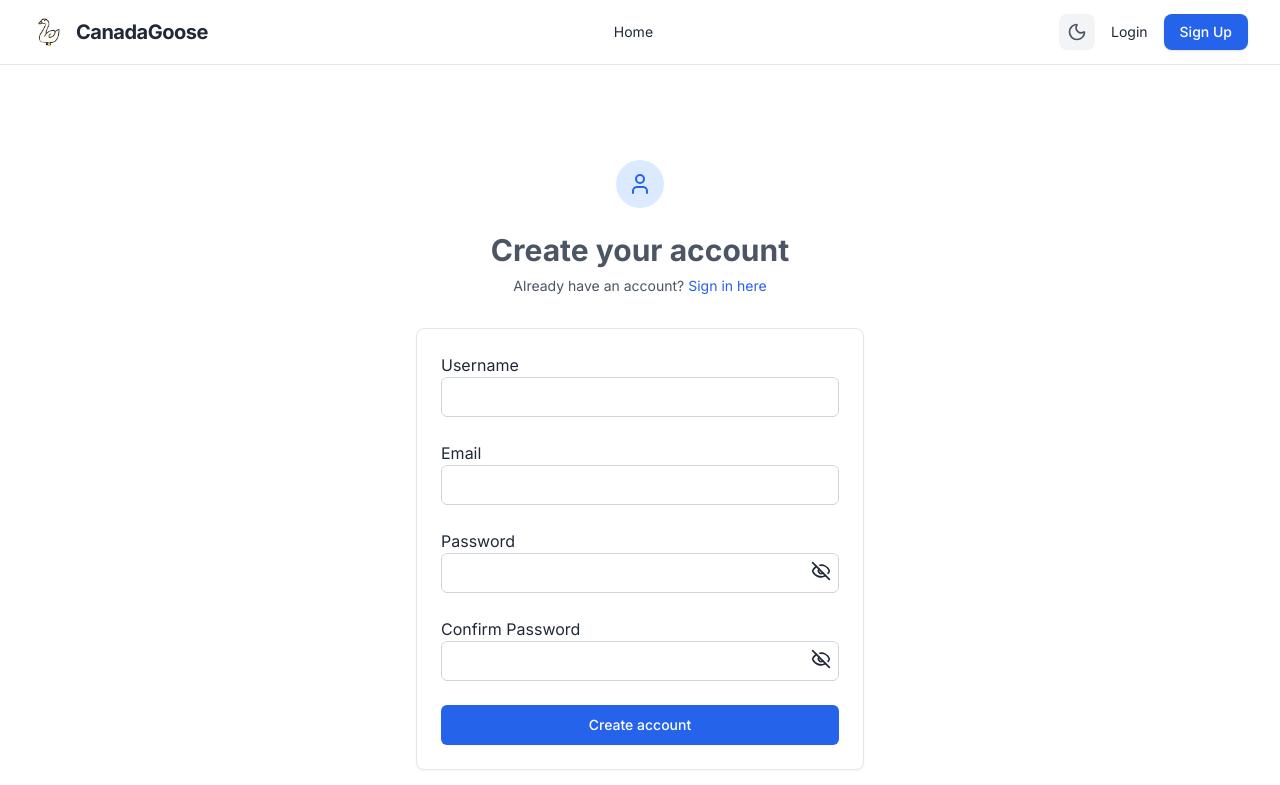
Test case: Signup Page › shows error on duplicate/invalid input
Type "existinguser" into the field with test id "username-input" at (640, 397), box [441, 377, 839, 417]
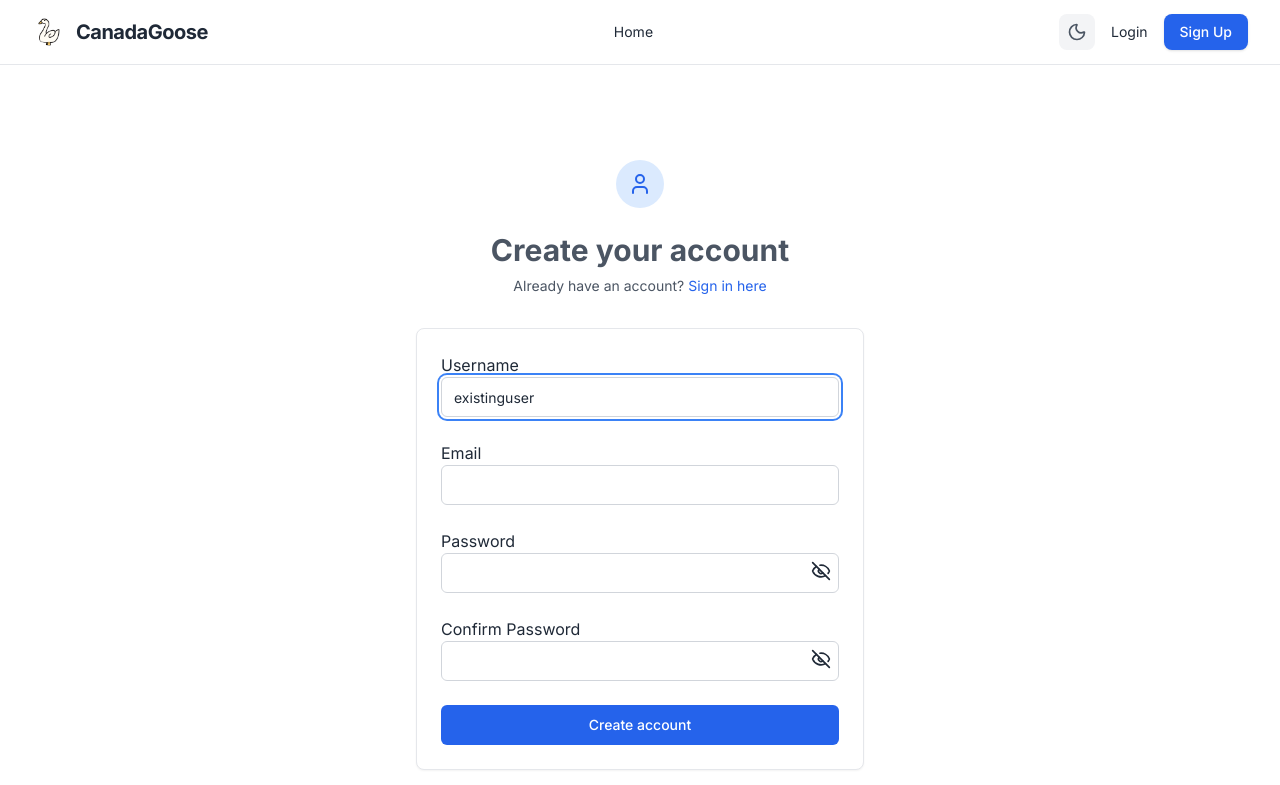
Type "existing@example.com" into the field with test id "email-input" at (640, 485), box [441, 465, 839, 505]
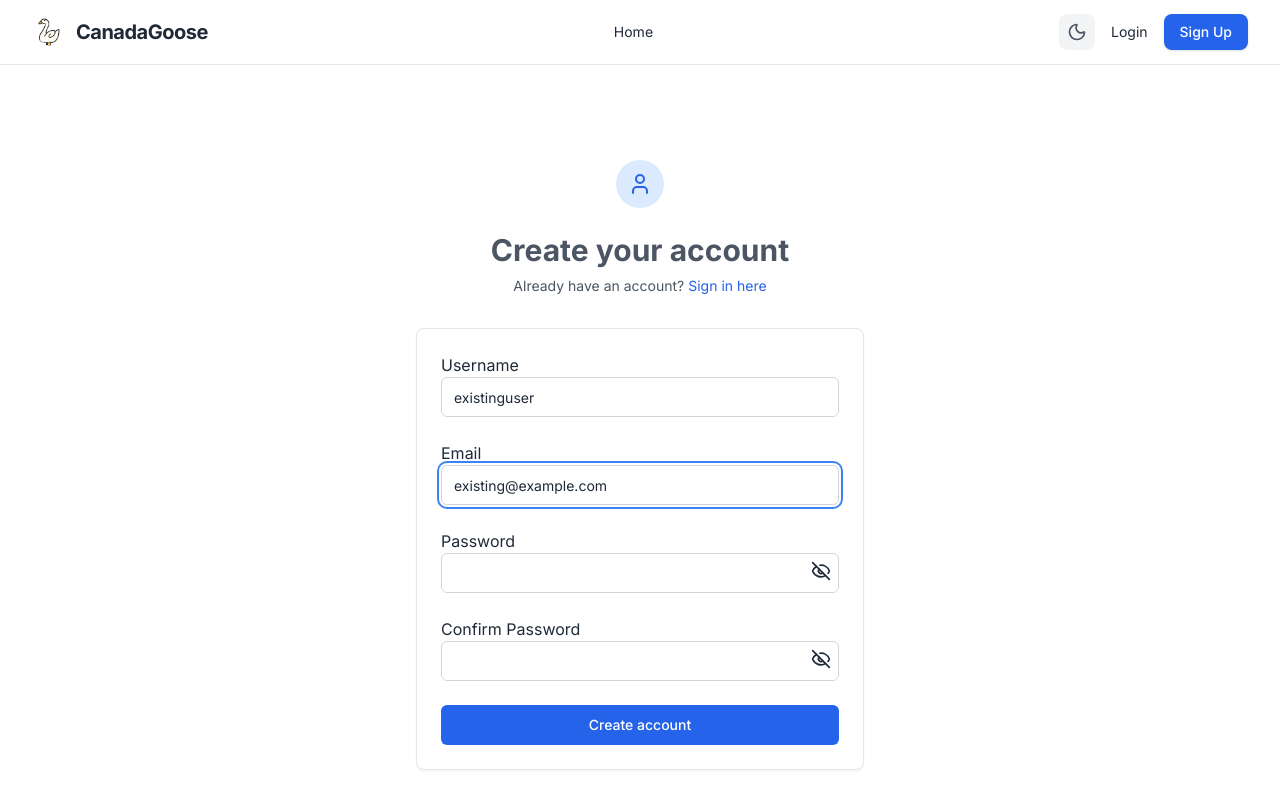
Type "ValidPass123!" into the password field with test id "password-input" at (640, 573), box [441, 553, 839, 593]
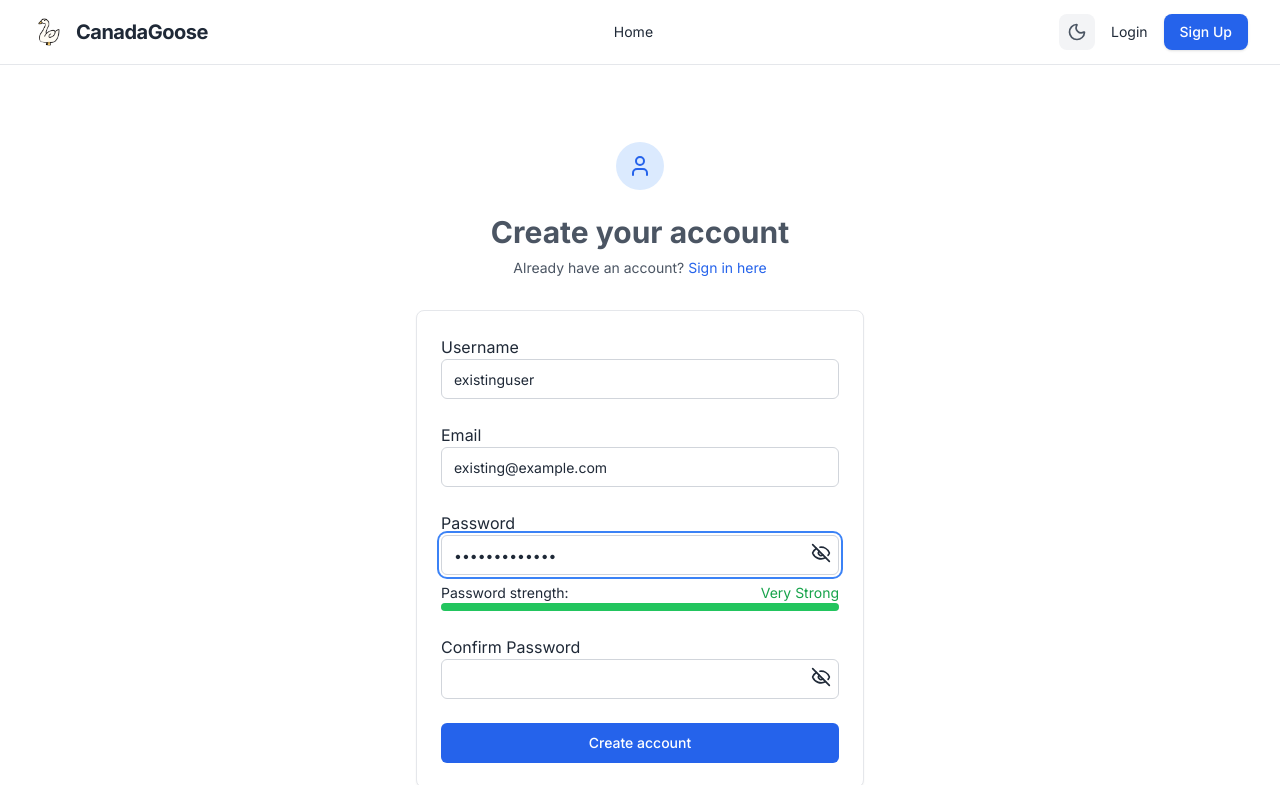
Type "ValidPass123!" into the password field with test id "confirm-password-input" at (640, 679), box [441, 659, 839, 699]
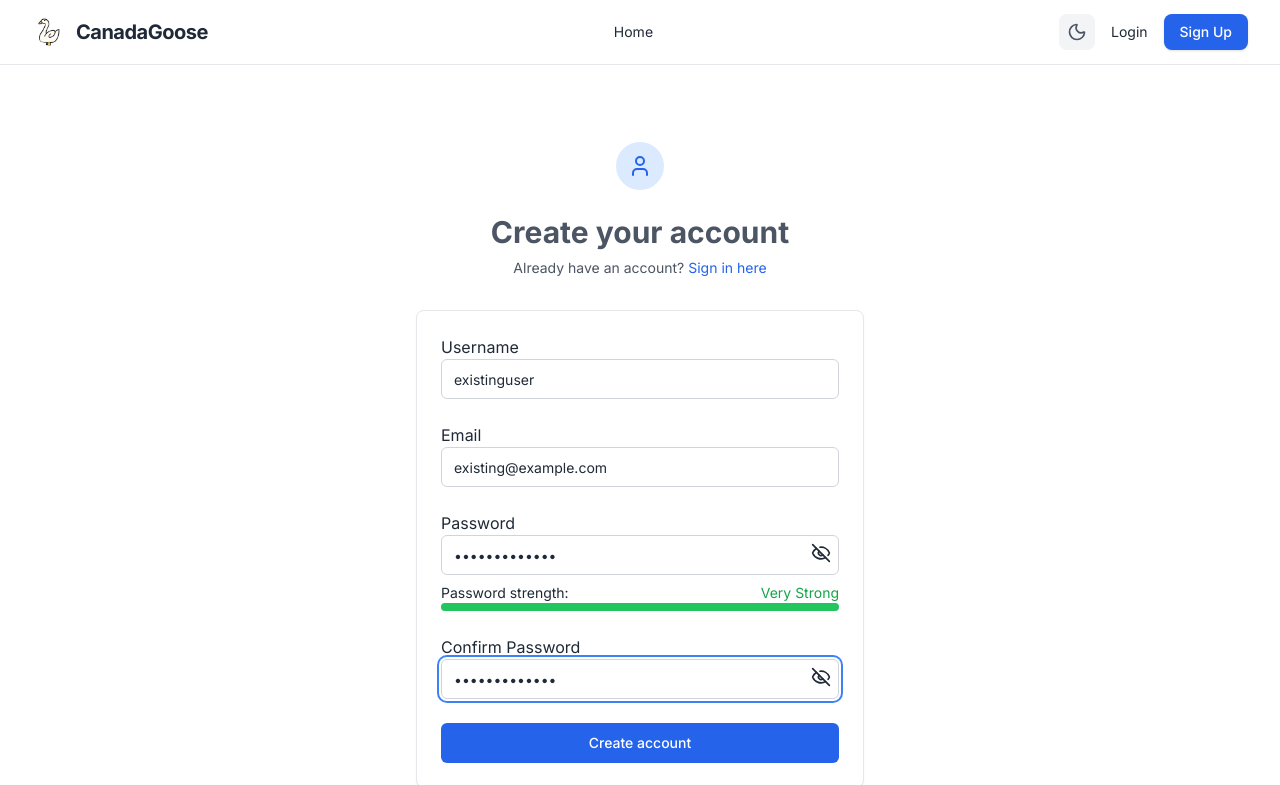
Click the button with test id "submit-button" at (640, 743), box [441, 723, 839, 763]
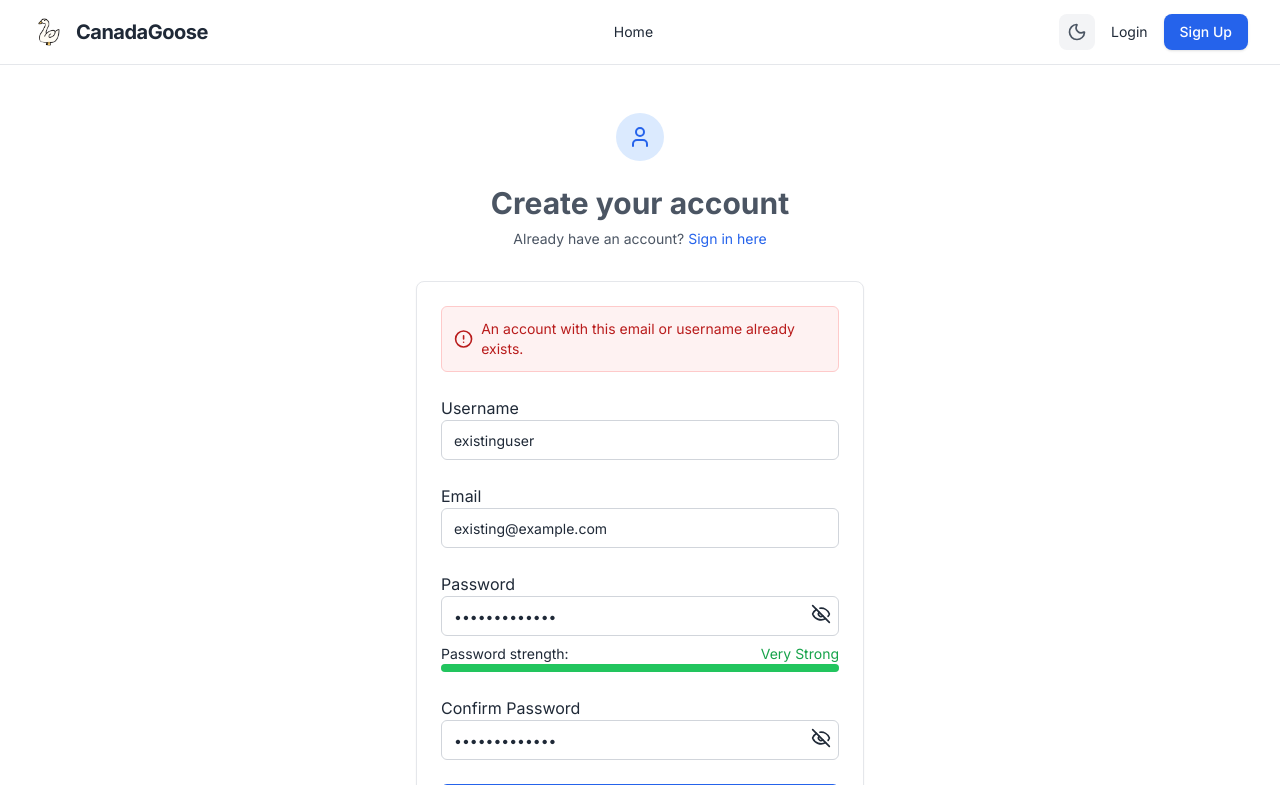
Expected: the element with test id "submit-button" is enabled
Now the text "already exists" is shown, box [481, 320, 795, 357]
